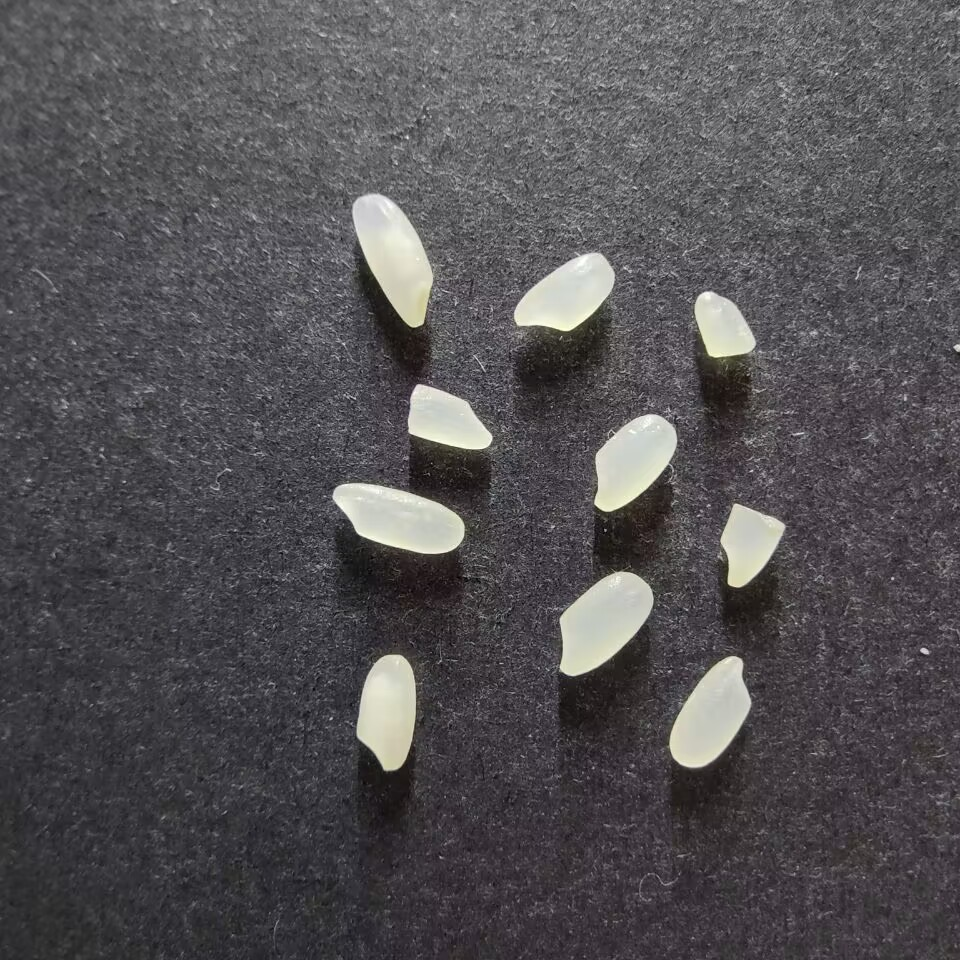broken: (407, 383, 493, 451), (720, 501, 786, 588), (694, 290, 757, 358)
rice: (352, 193, 435, 327), (558, 571, 655, 677), (332, 482, 465, 555), (669, 655, 753, 769), (593, 413, 678, 512), (513, 251, 616, 331), (356, 653, 417, 772)
